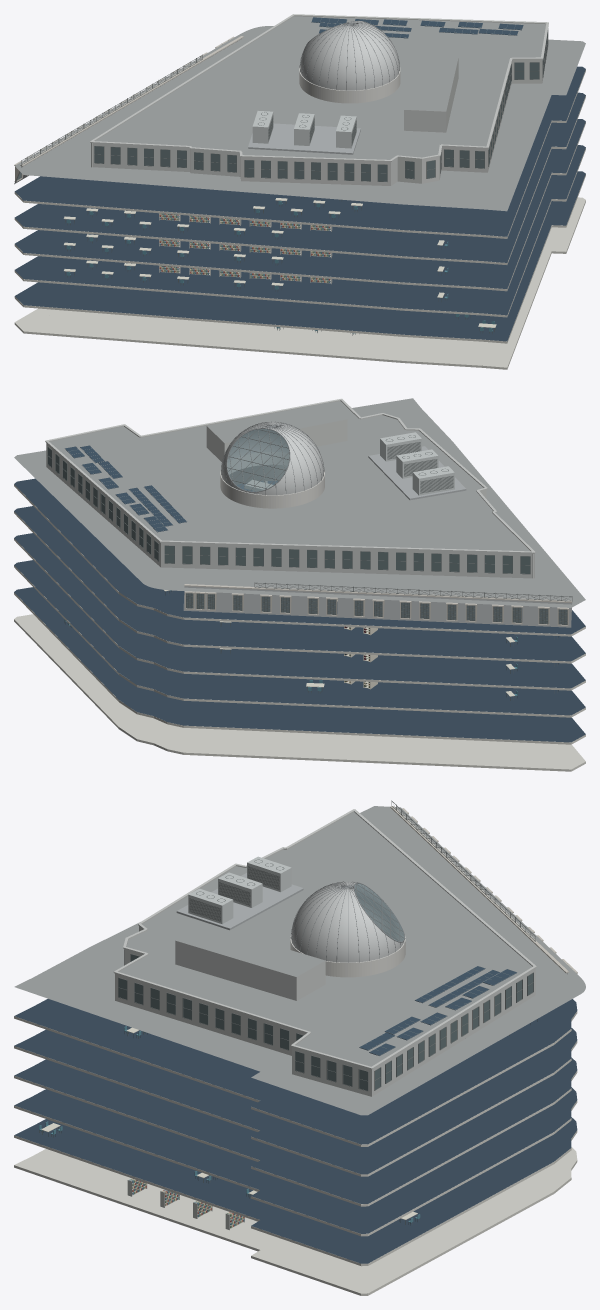
File: lrb-interior.glb
3 views of the same model, one above another, from view 1: azimuth 30°, elevation 25°; view 2: azimuth 150°, elevation 25°; view 3: azimuth 270°, elevation 25° (orthographic). The views are drawn at different scales.
Visible parts, largest first — view 1: LRB_INTERIOR; view 2: LRB_INTERIOR; view 3: LRB_INTERIOR.
Part boxes in pixels (x1,y1,x2,y2): LRB_INTERIOR: [14, 14, 585, 369]; LRB_INTERIOR: [14, 398, 585, 771]; LRB_INTERIOR: [14, 800, 585, 1295].
Size of the model in its own units: 89.08 by 36.89 by 69.59.
